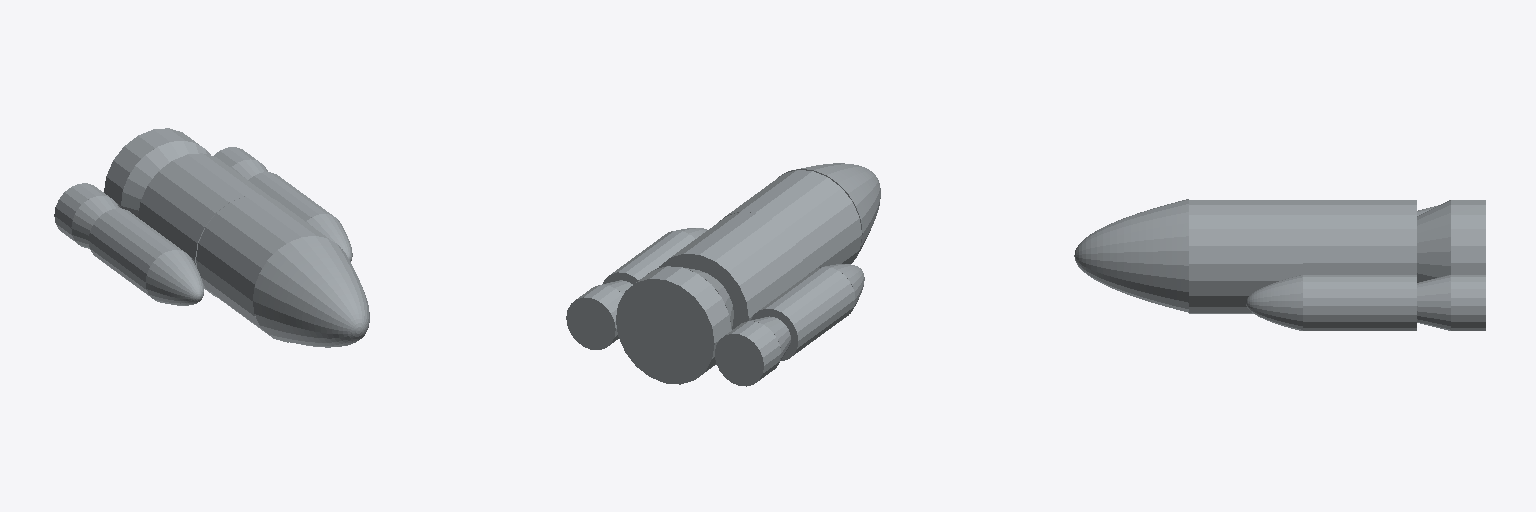
The model's file is nave.obj.
The picture shows the model from 3 angles: view 1: azimuth 30°, elevation 25°; view 2: azimuth 150°, elevation 25°; view 3: azimuth 270°, elevation 25°; orthographic projection.
Visible parts, largest first — view 1: mesh01; view 2: mesh01; view 3: mesh01.
Boxes of the visible parts, x1=… form: mesh01: x1=54, y1=128, x2=369, y2=347; mesh01: x1=566, y1=163, x2=880, y2=386; mesh01: x1=1074, y1=199, x2=1485, y2=330.
Bounding box in the file's own units: 40 × 20.18 × 72.